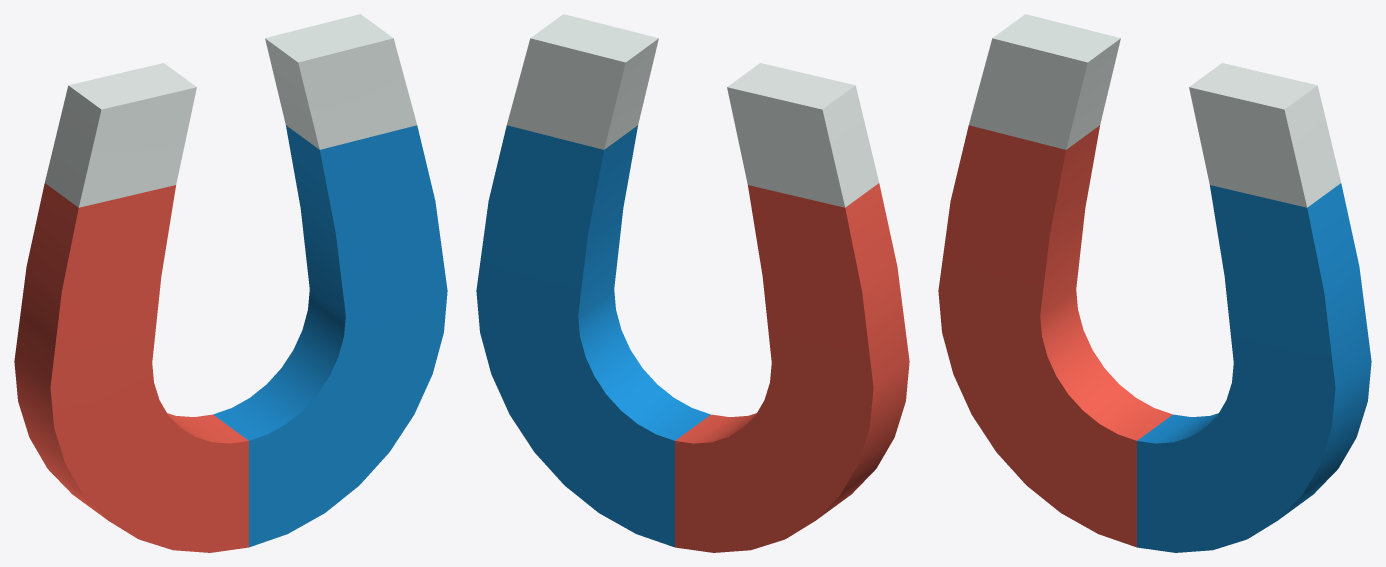
The model's file is Magnet.fbx.
3 renders of one model, left to right at view 1: azimuth 30°, elevation 25°; view 2: azimuth 150°, elevation 25°; view 3: azimuth 330°, elevation 25°, orthographic.
Parts seen in each view (by area): view 1: Circle.001; view 2: Circle.001; view 3: Circle.001.
Part boxes in pixels (x1,y1,x2,y2): Circle.001: (14,14,447,552); Circle.001: (476,14,909,552); Circle.001: (938,14,1371,552).
Bounding box in the file's own units: 161 × 183 × 25.27.
